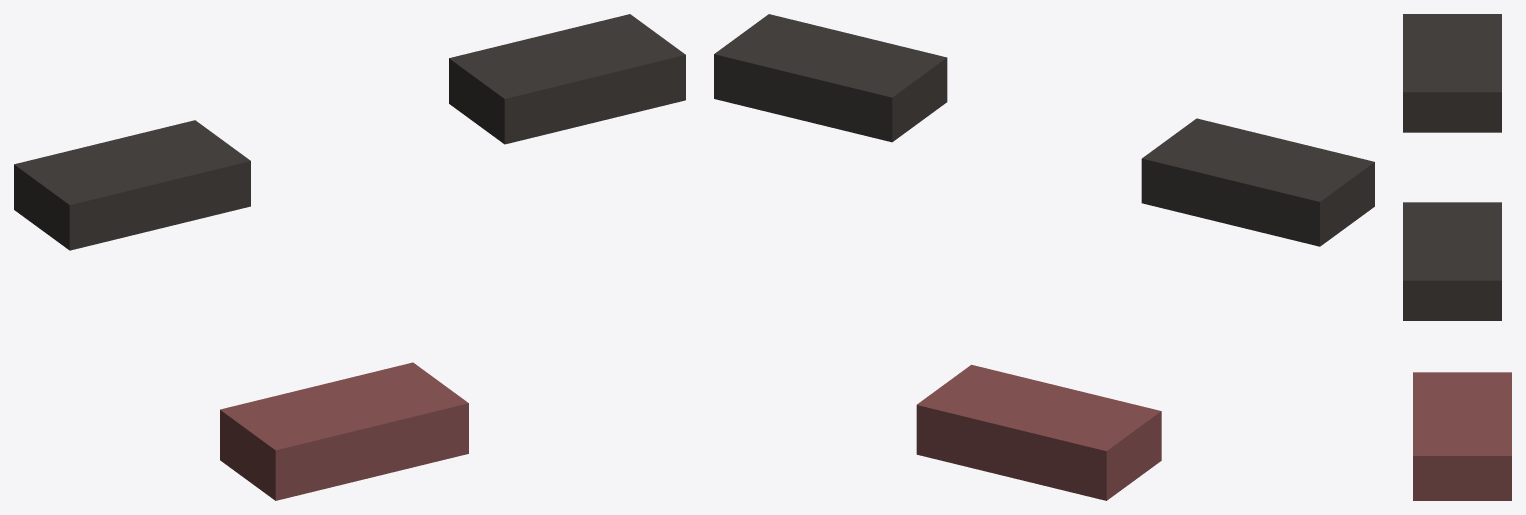
File: av_face_calm.glb
The picture shows the model from 3 angles, left to right: view 1: azimuth 30°, elevation 25°; view 2: azimuth 150°, elevation 25°; view 3: azimuth 270°, elevation 25°; orthographic projection. The views are drawn at different scales.
Bounding box in the file's own units: 0.255 × 0.139 × 0.044.
